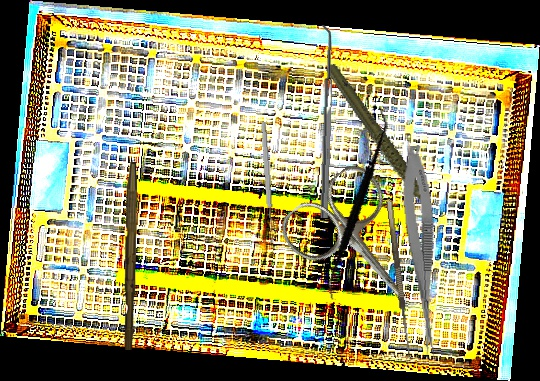Handpiece: (323, 48, 439, 241)
Hook Surgical: (386, 199, 420, 360)
Iris Scissors: (273, 157, 448, 337)
Micro Scissor: (397, 144, 449, 359)
Scalpel Handle: (123, 162, 137, 350)
Spatula Surgical: (286, 107, 427, 301), (312, 24, 335, 219)
Surgical Spoon: (259, 121, 276, 244)
